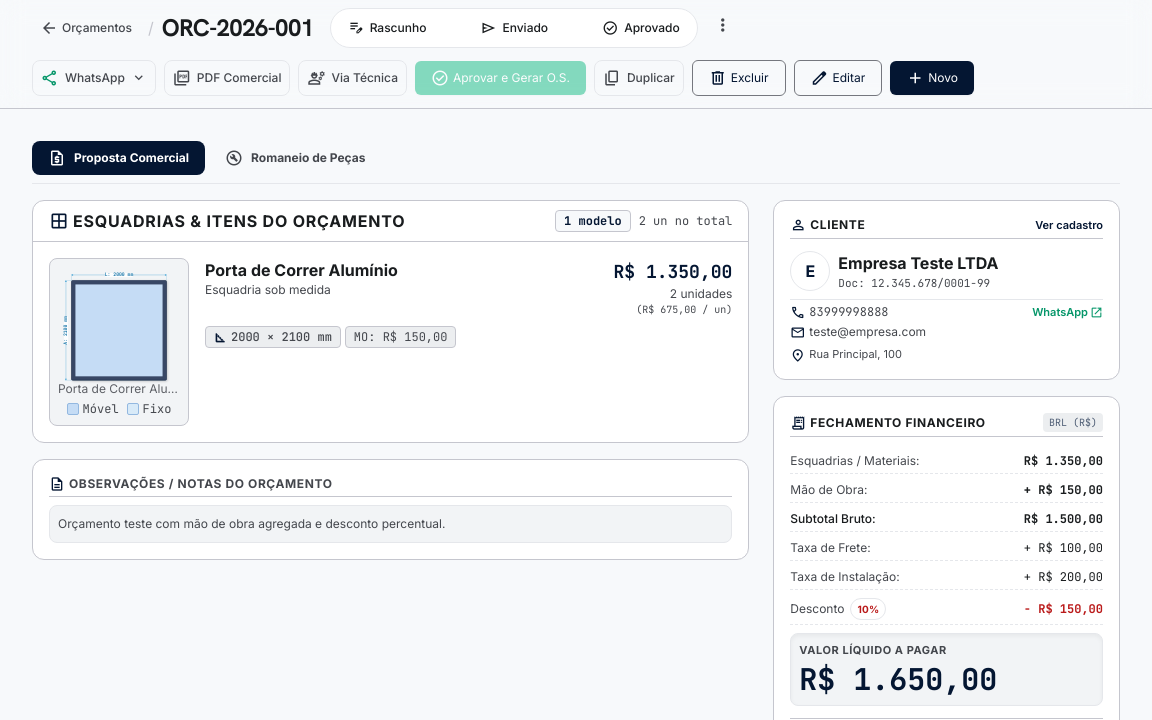
it: BudgetDetailPage - Testes Unitários › deve abrir o modal de resumo para WhatsApp ao clicar no botão da barra superior
This screenshot has width=1152, height=720.
// Abre o dropdown
Click the button "WhatsApp": (94, 78) 32,60 -> 156,96
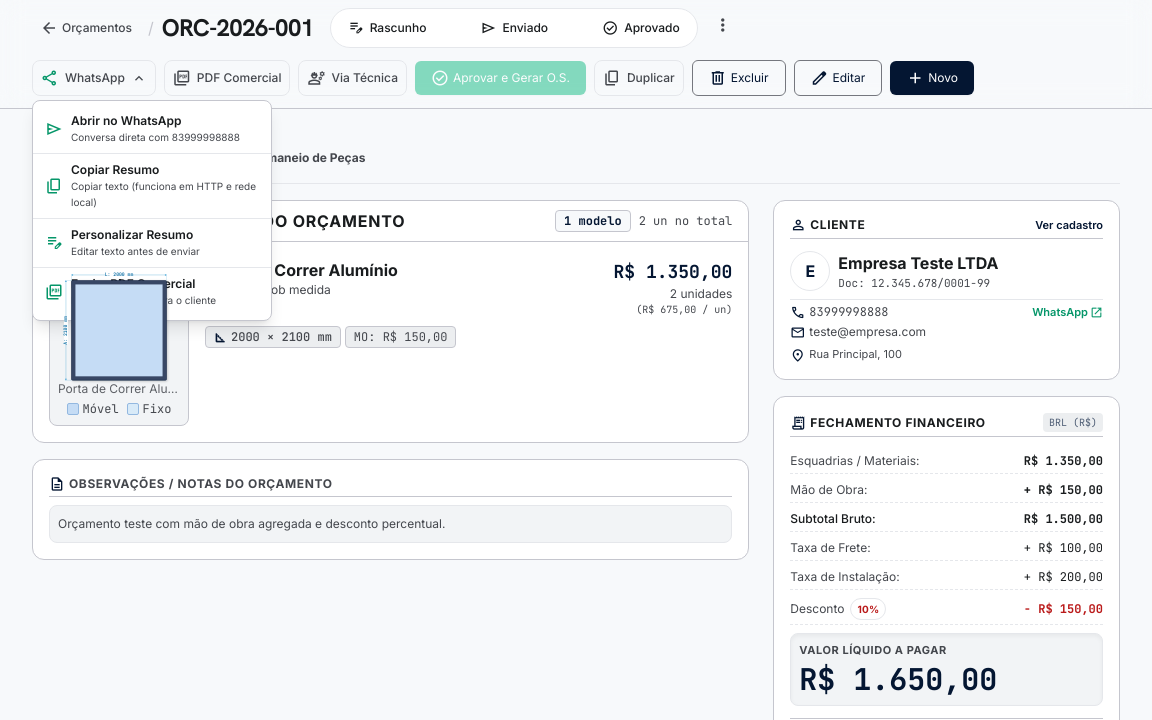
Result: the button "Personalizar Resumo Editar texto antes de enviar" is shown
Result: the button "Enviar PDF Comercial Enviar link direto para o cliente" is shown at 33,267 -> 271,316
// Clica em "Personalizar Resumo"
Click the button "Personalizar Resumo Editar texto antes de enviar": (152, 242) 33,218 -> 271,267
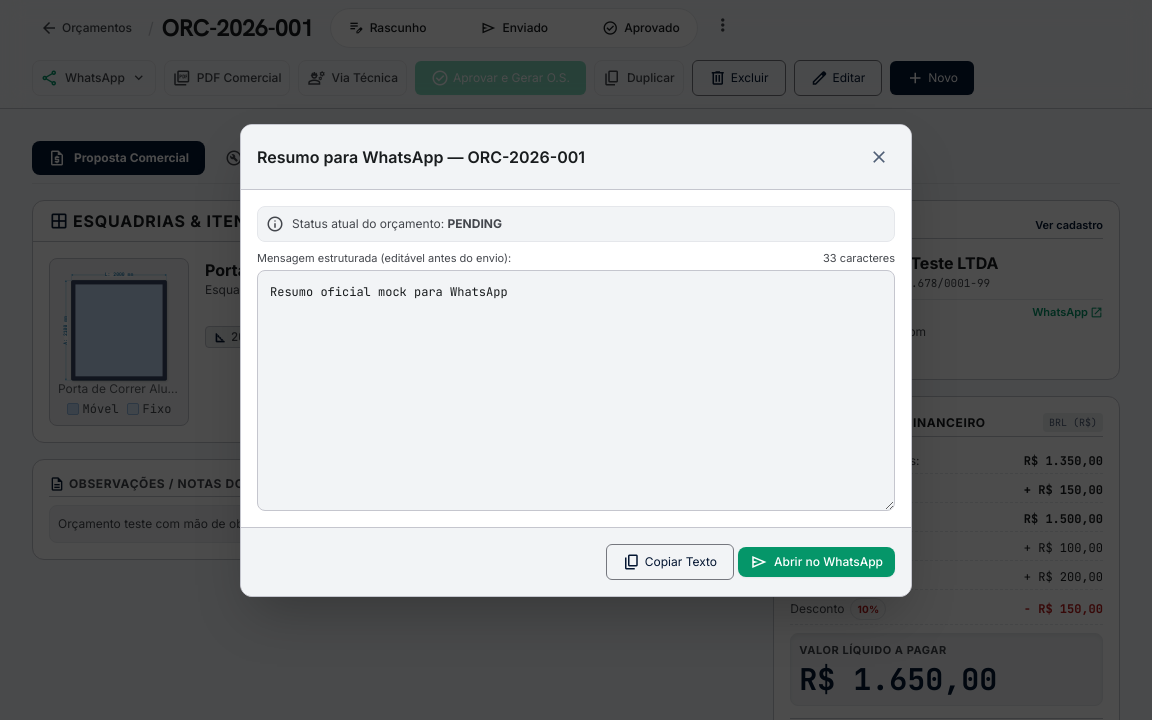
Result: the heading "Resumo para WhatsApp — ORC-2026-001" is shown at 257,144 -> 585,168
